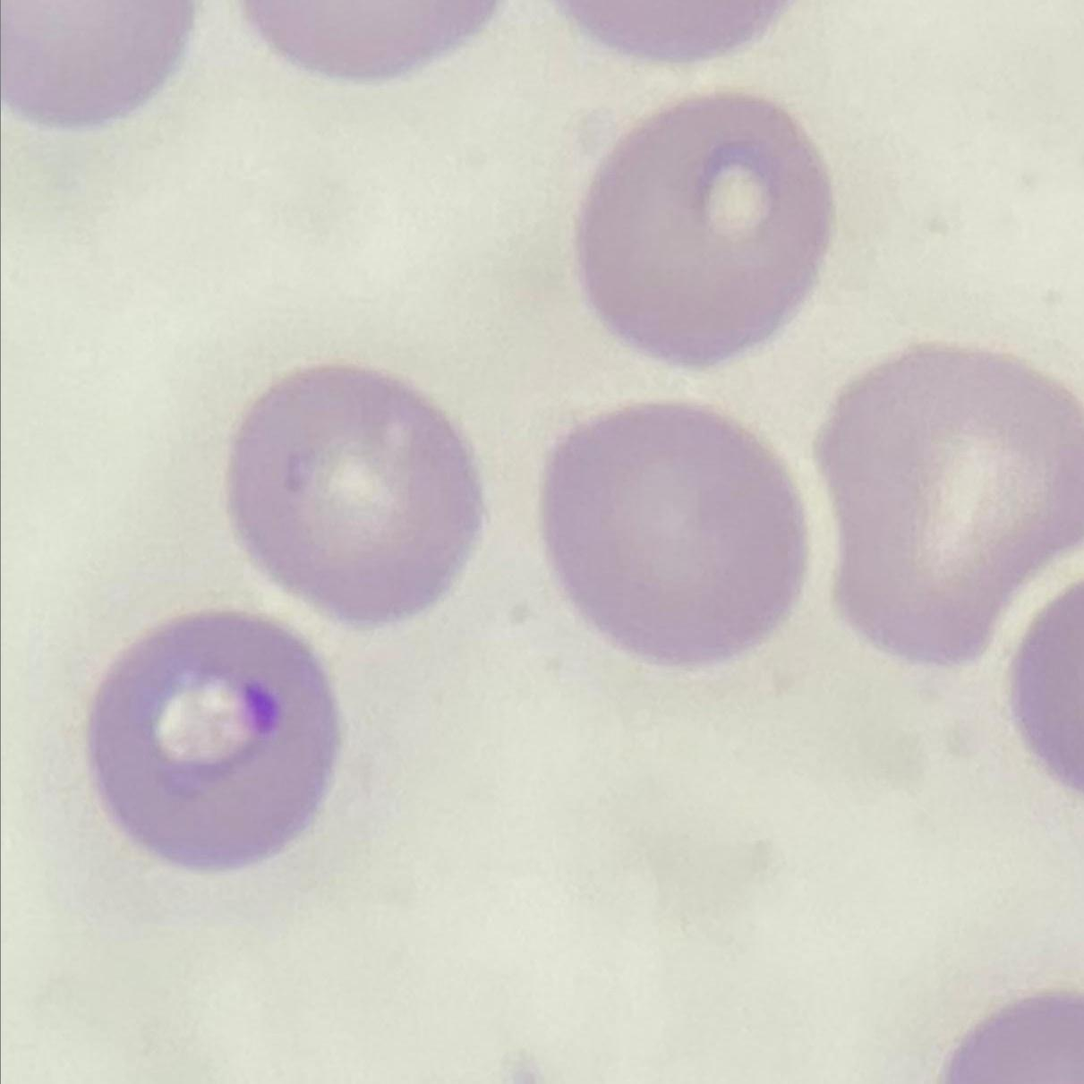Infected: (90, 607, 337, 873)
Uninfected: (812, 345, 1084, 666), (539, 403, 814, 669), (230, 363, 483, 632), (580, 90, 829, 361)
